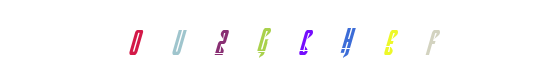0: (96, 0, 176, 80)
2: (223, 0, 303, 80)
C: (235, 0, 315, 80)
E: (308, 0, 388, 80)
F: (350, 0, 430, 80)
G: (228, 0, 308, 80)
H: (265, 0, 345, 80)
U: (182, 0, 262, 80)
